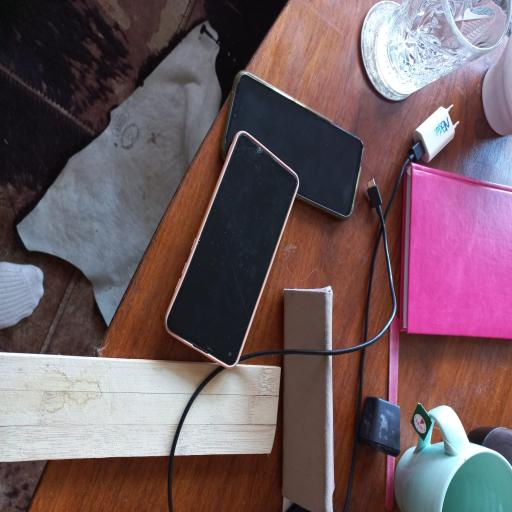phone: (166, 132, 298, 367), (221, 72, 362, 218)
